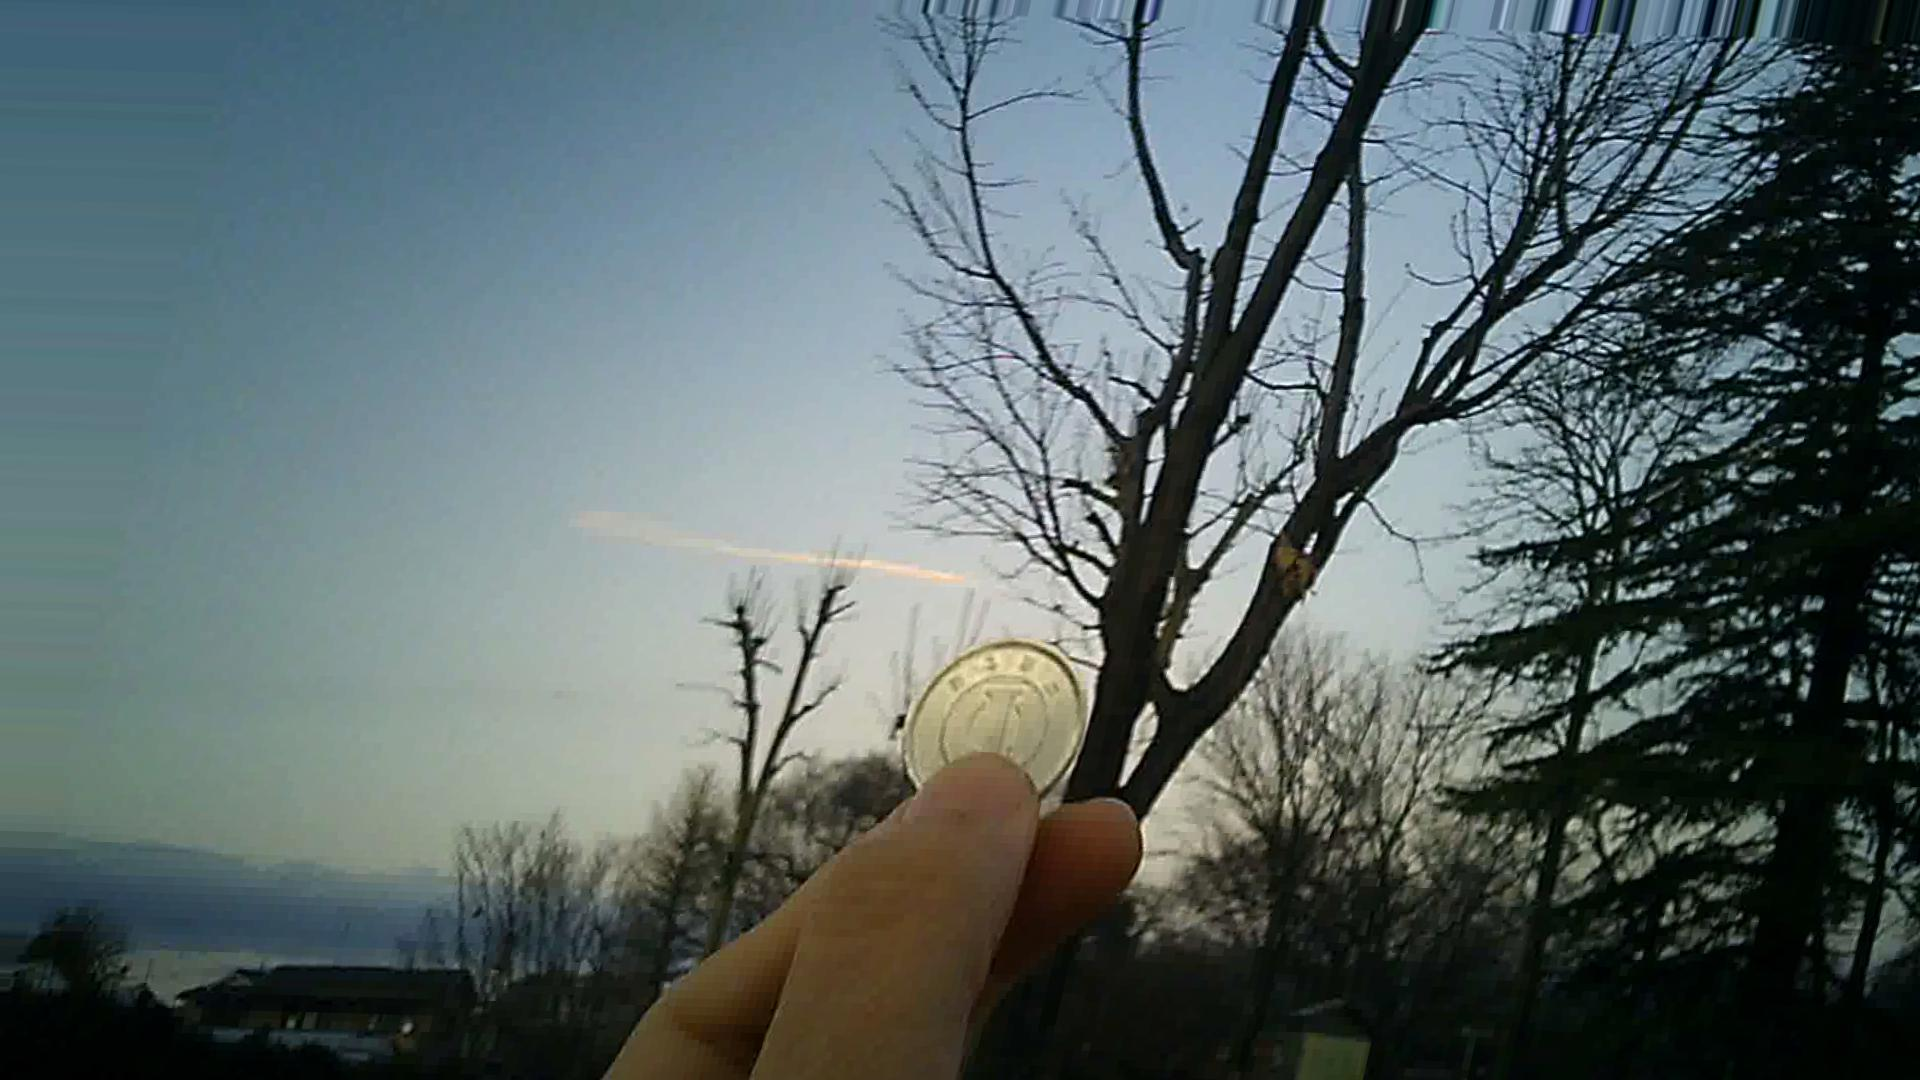1 Yen: (891, 621, 1095, 820)
